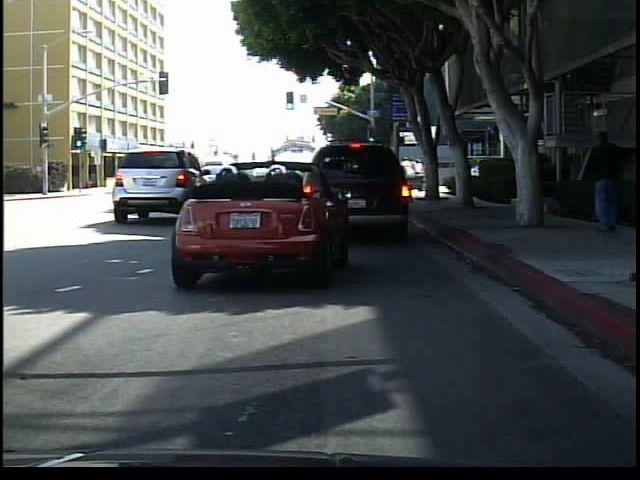person: (582, 132, 630, 239), (514, 143, 544, 225)
